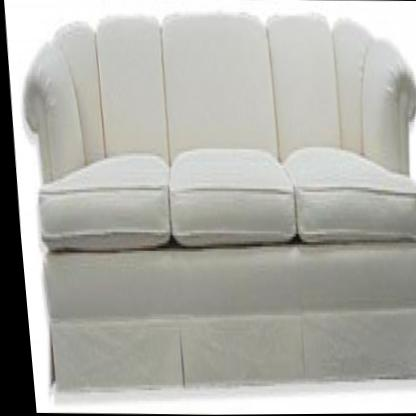Sofa: (6, 5, 416, 403)
